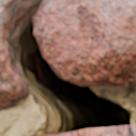brick: (45, 125, 135, 135)
broken_brick: (35, 0, 135, 87), (0, 0, 30, 109)
crack: (2, 0, 133, 135)
